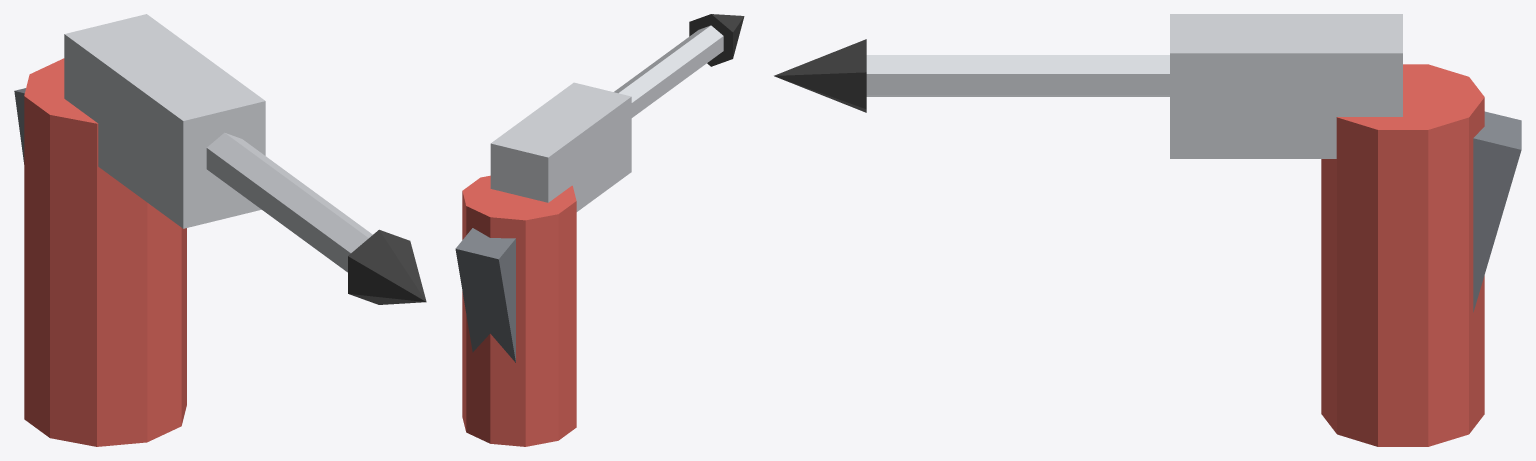
The model's file is Blowtorch.fbx.
The picture shows the model from 3 angles, left to right: view 1: azimuth 30°, elevation 25°; view 2: azimuth 150°, elevation 25°; view 3: azimuth 270°, elevation 25°; orthographic projection. The views are drawn at different scales.
Visible parts, largest first — view 1: Body; view 2: Body; view 3: Body.
Boxes of the visible parts, bbox=[...] form: Body: bbox=[14, 14, 426, 446]; Body: bbox=[455, 14, 744, 446]; Body: bbox=[774, 14, 1521, 446].
Size of the model in its own units: 0.1331 by 0.36 by 0.6416.
